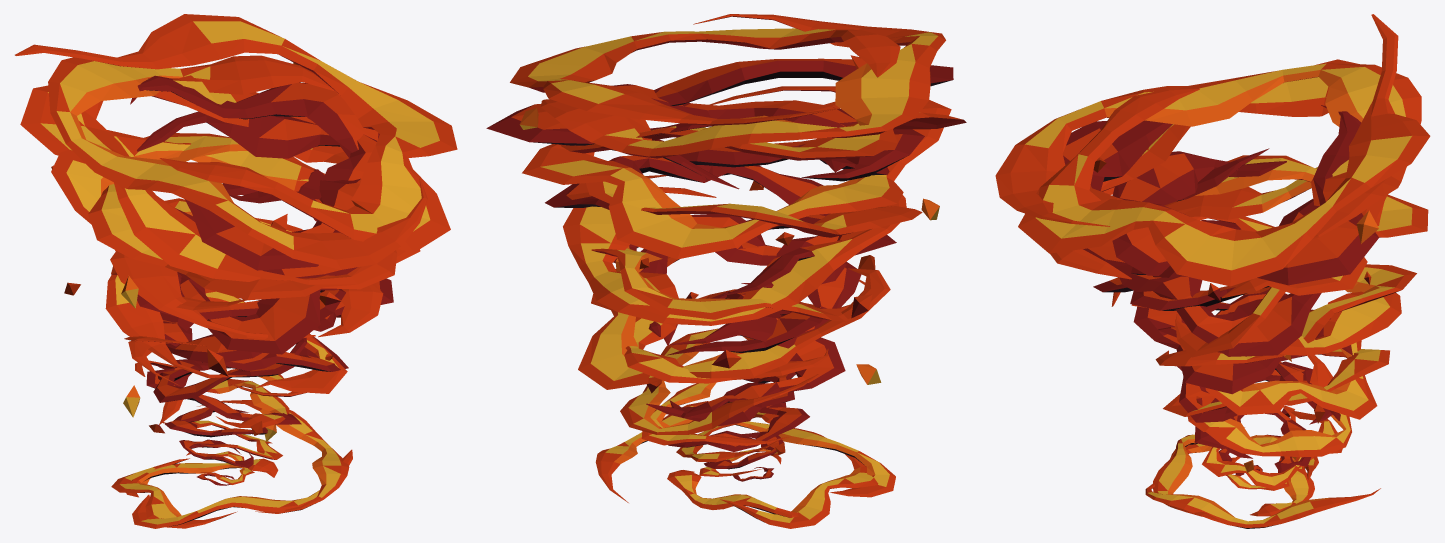
File: Firenado.glb
3 views of the same model, side by side, from view 1: azimuth 30°, elevation 25°; view 2: azimuth 150°, elevation 25°; view 3: azimuth 270°, elevation 25° (orthographic). The views are drawn at different scales.
Visible parts, largest first — view 1: Wind_Ribbon_25.002, Wind_Ribbon_24.002, Wind_Ribbon_22.004, Wind_Ribbon_23.003, Wind_Ribbon_18.004, Wind_Ribbon_20.004, Wind_Ribbon_21.004, Wind_Ribbon_17.004, Wind_Ribbon_14.005, Wind_Ribbon_10.006, Ground_Shear_4.002, Ground_Shear_3.002 (+13 smaller); view 2: Wind_Ribbon_24.002, Wind_Ribbon_20.004, Wind_Ribbon_25.002, Wind_Ribbon_16.005, Wind_Ribbon_12.005, Wind_Ribbon_23.003, Wind_Ribbon_22.004, Wind_Ribbon_13.005, Wind_Ribbon_19.004, Wind_Ribbon_18.004, Wind_Ribbon_14.005, Wind_Ribbon_21.004 (+15 smaller); view 3: Wind_Ribbon_25.002, Wind_Ribbon_24.002, Wind_Ribbon_23.003, Wind_Ribbon_19.004, Wind_Ribbon_22.004, Wind_Ribbon_18.004, Wind_Ribbon_20.004, Wind_Ribbon_12.005, Wind_Ribbon_16.005, Wind_Ribbon_14.005, Wind_Ribbon_08.006, Wind_Ribbon_15.005 (+11 smaller).
Part boxes in pixels (x1,y1,x2,y2): Wind_Ribbon_25.002: (15,14,457,252); Wind_Ribbon_24.002: (48,55,427,269); Wind_Ribbon_22.004: (20,75,397,289); Wind_Ribbon_23.003: (130,75,379,270); Wind_Ribbon_18.004: (51,130,420,339); Wind_Ribbon_20.004: (88,133,348,300); Wind_Ribbon_21.004: (137,111,376,290); Wind_Ribbon_17.004: (178,169,324,354); Wind_Ribbon_14.005: (105,198,383,377); Wind_Ribbon_10.006: (128,288,347,393); Ground_Shear_4.002: (197,400,349,513); Ground_Shear_3.002: (132,449,352,528); Wind_Ribbon_24.002: (540,14,945,158); Wind_Ribbon_20.004: (522,100,951,259); Wind_Ribbon_25.002: (510,28,900,125); Wind_Ribbon_16.005: (563,187,906,325); Wind_Ribbon_12.005: (578,242,890,389); Wind_Ribbon_23.003: (486,58,953,145); Wind_Ribbon_22.004: (560,86,966,160); Wind_Ribbon_13.005: (640,214,861,348); Wind_Ribbon_19.004: (545,129,924,209); Wind_Ribbon_18.004: (586,175,922,237); Wind_Ribbon_14.005: (591,246,865,321); Wind_Ribbon_21.004: (611,84,889,189); Wind_Ribbon_25.002: (1018,14,1430,286); Wind_Ribbon_24.002: (995,63,1421,239); Wind_Ribbon_23.003: (1062,105,1378,285); Wind_Ribbon_19.004: (1112,151,1321,356); Wind_Ribbon_22.004: (1050,59,1387,298); Wind_Ribbon_18.004: (1111,167,1384,357); Wind_Ribbon_20.004: (1102,155,1428,295); Wind_Ribbon_12.005: (1205,340,1377,419); Wind_Ribbon_16.005: (1175,216,1401,355); Wind_Ribbon_14.005: (1155,264,1416,366); Wind_Ribbon_08.006: (1198,355,1351,457); Wind_Ribbon_15.005: (1133,220,1330,394).
Bounding box in the file's own units: 9.03 × 9.78 × 9.38.
